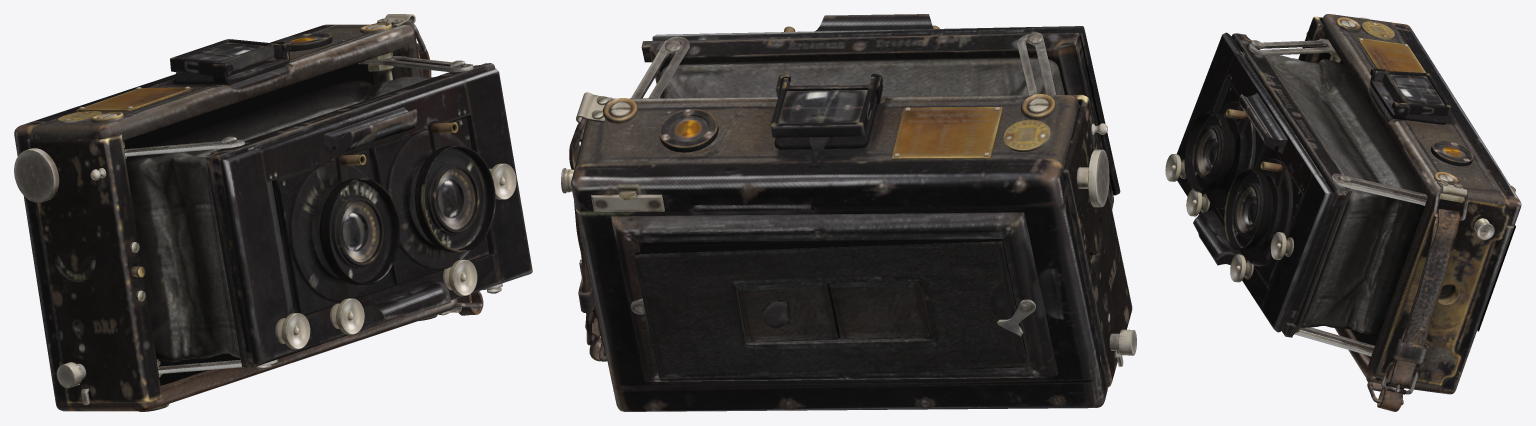
The picture shows the model from 3 angles, left to right: view 1: azimuth 30°, elevation 25°; view 2: azimuth 150°, elevation 25°; view 3: azimuth 270°, elevation 25°; orthographic projection. The views are drawn at different scales.
Parts seen in each view (by area): view 1: Object_2, Object_3, Object_4; view 2: Object_3, Object_2, Object_4; view 3: Object_2, Object_3, Object_4.
Boxes of the visible parts, x1,y1,x2,y2 form: Object_2: [14, 18, 516, 411]; Object_3: [14, 14, 532, 405]; Object_4: [181, 36, 460, 250]; Object_3: [561, 26, 1136, 411]; Object_2: [569, 14, 1113, 411]; Object_4: [668, 90, 867, 141]; Object_2: [1165, 14, 1521, 411]; Object_3: [1177, 16, 1515, 394]; Object_4: [1208, 74, 1466, 224].
Size of the model in its own units: 195 by 130 by 165.
Materials: 2 (2 with a texture image).
